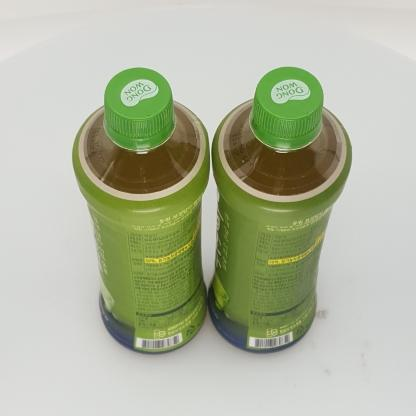------500ML: (208, 67, 352, 353), (72, 68, 210, 354)
